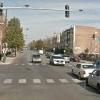Crosswalk: (4, 68, 76, 91)
